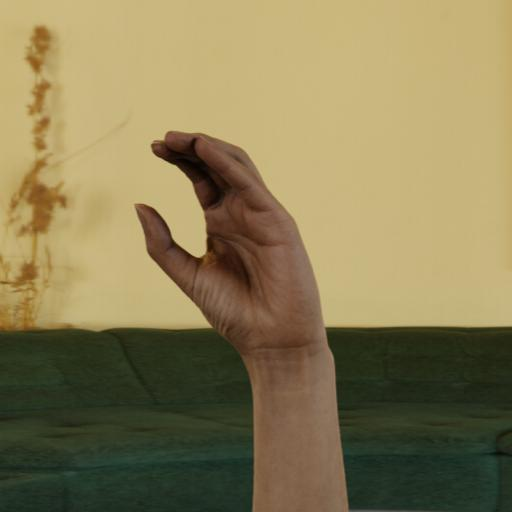C: (121, 116, 359, 356)
